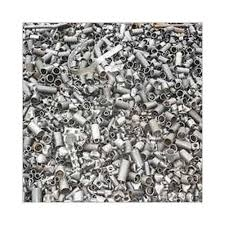metal: (113, 156, 133, 184), (41, 60, 65, 82), (85, 121, 104, 148), (25, 119, 48, 140), (54, 172, 74, 196), (30, 57, 51, 78), (47, 162, 71, 180), (144, 117, 164, 138), (32, 80, 58, 96), (128, 146, 146, 169), (53, 97, 79, 112), (139, 95, 163, 111), (90, 60, 110, 79), (28, 184, 48, 203), (158, 61, 176, 82), (131, 49, 150, 68), (69, 110, 89, 127), (60, 31, 82, 46), (111, 96, 133, 111), (162, 130, 180, 148), (49, 130, 66, 148), (170, 49, 185, 69), (151, 101, 167, 116)
